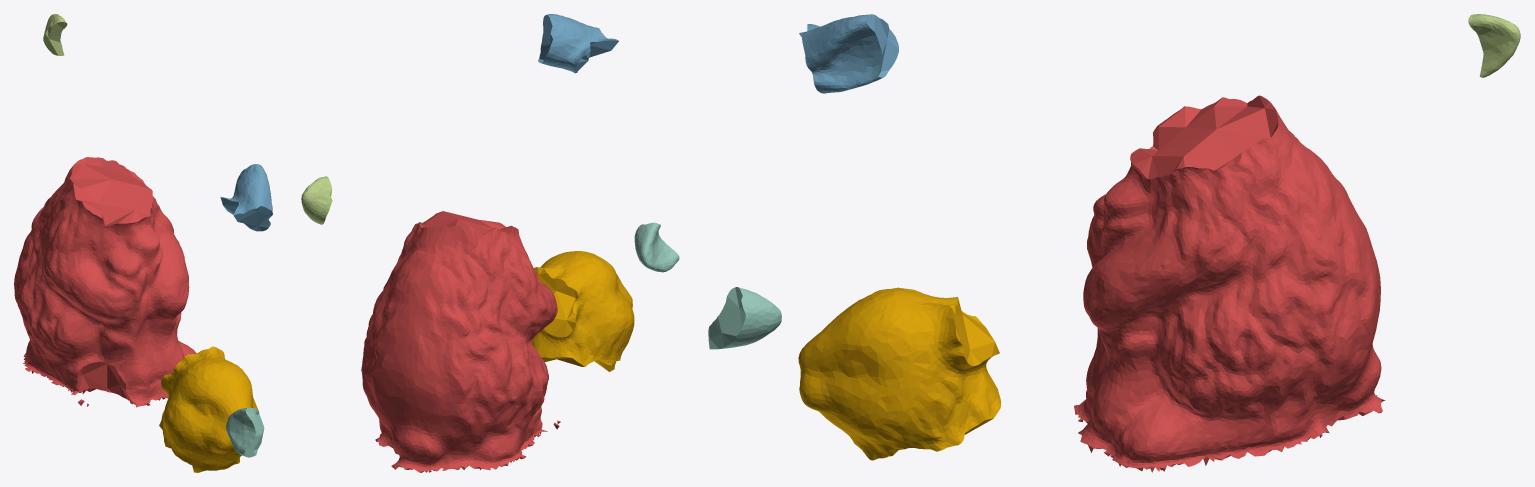
The model's file is fractured_71_6pcs_transformed.glb.
The picture shows the model from 3 angles, left to right: view 1: azimuth 30°, elevation 25°; view 2: azimuth 150°, elevation 25°; view 3: azimuth 270°, elevation 25°; orthographic projection. The views are drawn at different scales.
Visible parts, largest first — view 1: piece_1.obj, piece_0.obj, piece_2.obj, piece_4.obj, piece_5.obj; view 2: piece_1.obj, piece_0.obj, piece_2.obj, piece_4.obj, piece_5.obj; view 3: piece_1.obj, piece_0.obj, piece_2.obj, piece_4.obj, piece_5.obj.
Part boxes in pixels (bbox=[...]): piece_1.obj: bbox=[14, 157, 196, 407]; piece_0.obj: bbox=[159, 346, 257, 472]; piece_2.obj: bbox=[220, 164, 272, 231]; piece_4.obj: bbox=[226, 407, 264, 457]; piece_5.obj: bbox=[43, 14, 67, 55]; piece_1.obj: bbox=[361, 211, 560, 472]; piece_0.obj: bbox=[532, 251, 634, 371]; piece_2.obj: bbox=[538, 14, 618, 73]; piece_4.obj: bbox=[634, 222, 679, 272]; piece_5.obj: bbox=[301, 176, 332, 224]; piece_1.obj: bbox=[1074, 95, 1385, 472]; piece_0.obj: bbox=[798, 287, 1000, 460]; piece_2.obj: bbox=[799, 14, 898, 93]; piece_4.obj: bbox=[708, 287, 781, 349]; piece_5.obj: bbox=[1468, 14, 1520, 77].
Size of the model in its own units: 0.5195 by 1.02 by 1.62.
